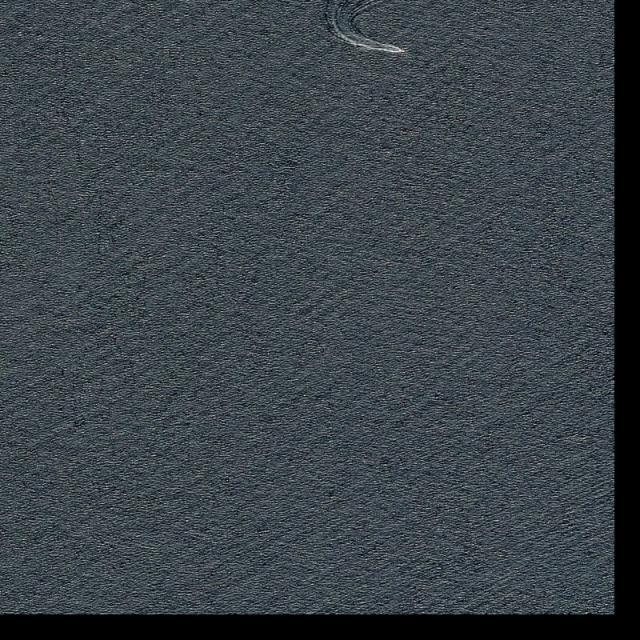ship: (398, 49, 407, 54)
